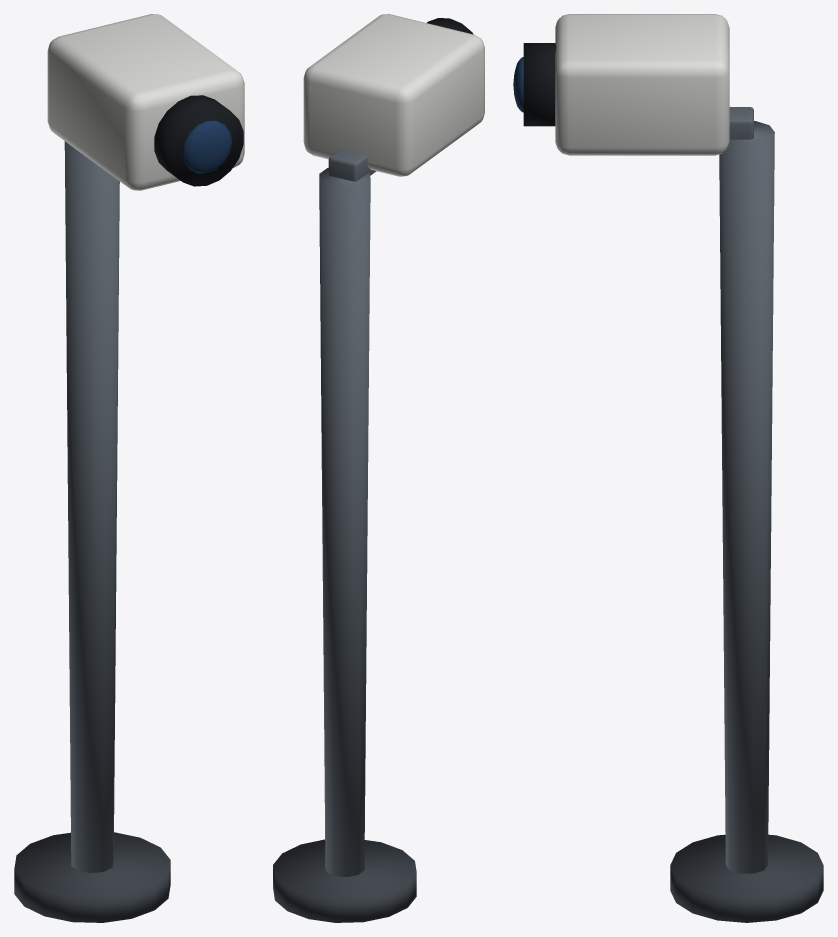
The model's file is thermal_cam.glb.
3 views of the same model, side by side, from view 1: azimuth 30°, elevation 25°; view 2: azimuth 150°, elevation 25°; view 3: azimuth 270°, elevation 25° (orthographic). The views are drawn at different scales.
Parts seen in each view (by area): view 1: Body, Head, Lens; view 2: Body, Head; view 3: Body, Head, Lens.
Part boxes in pixels (x1=…): Body: x1=14, y1=141, x2=170, y2=922; Head: x1=47, y1=14, x2=244, y2=190; Lens: x1=154, y1=95, x2=243, y2=186; Body: x1=273, y1=149, x2=416, y2=922; Head: x1=303, y1=14, x2=484, y2=176; Body: x1=670, y1=107, x2=823, y2=922; Head: x1=555, y1=14, x2=729, y2=155; Lens: x1=513, y1=43, x2=555, y2=126.
Size of the model in its own units: 0.44 by 2.7 by 0.89.
